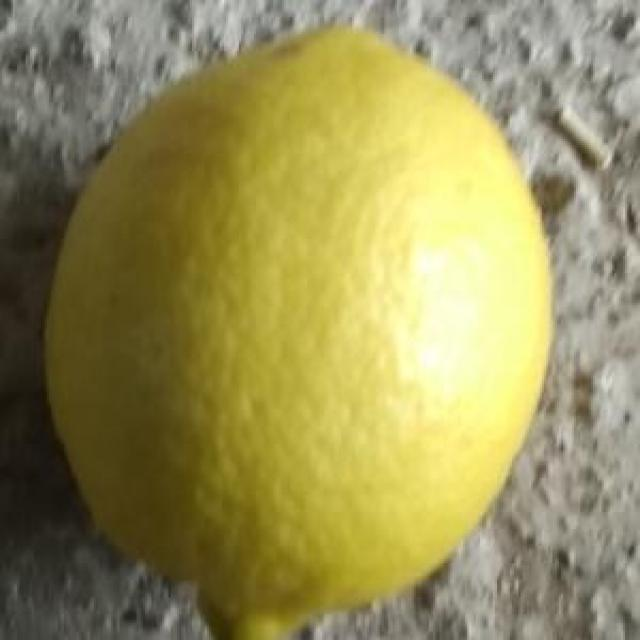lemon: (48, 16, 564, 640)
